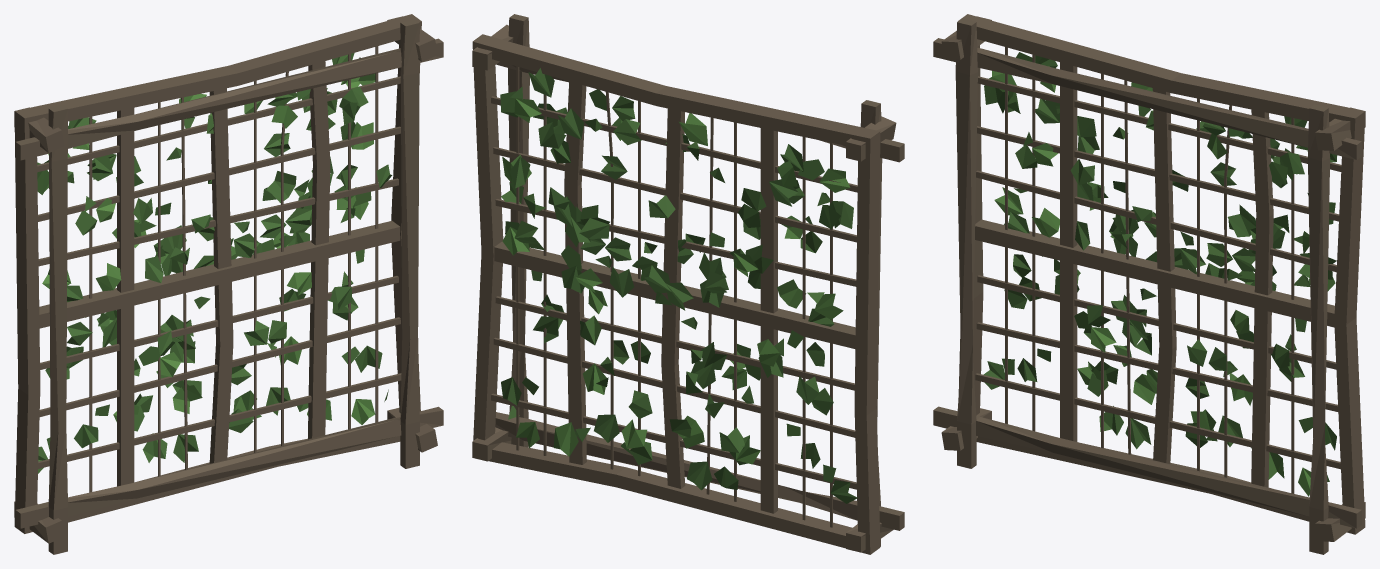
The model's file is SM_Bld_Cuba_VineWall_01.glb.
3 renders of one model, left to right at view 1: azimuth 30°, elevation 25°; view 2: azimuth 150°, elevation 25°; view 3: azimuth 330°, elevation 25°, orthographic.
Parts seen in each view (by area): view 1: SM_Bld_Cuba_VineWall_01_part00; view 2: SM_Bld_Cuba_VineWall_01_part00; view 3: SM_Bld_Cuba_VineWall_01_part00.
Part boxes in pixels (<box>): SM_Bld_Cuba_VineWall_01_part00: <box>14,14,443,554</box>; SM_Bld_Cuba_VineWall_01_part00: <box>472,14,904,554</box>; SM_Bld_Cuba_VineWall_01_part00: <box>933,14,1365,554</box>.
Size of the model in its own units: 3.59 by 3.59 by 0.5767.
1 material, 1 textured.
